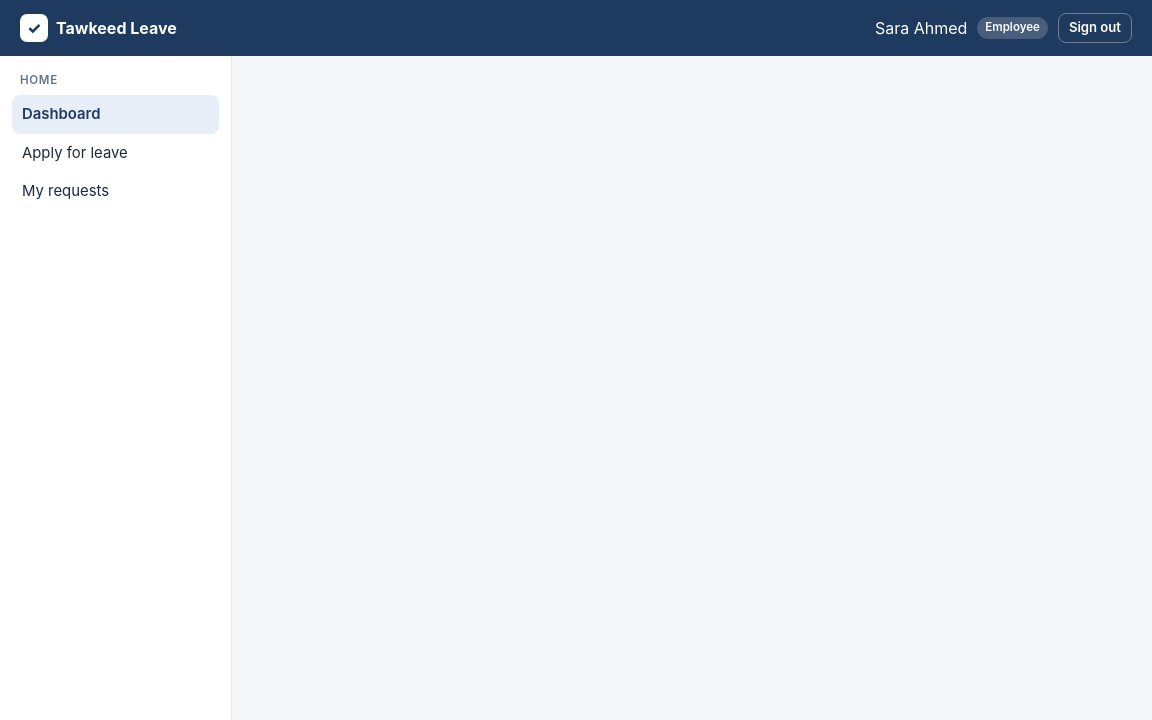
Test: sign out › asks for confirmation; Cancel keeps the session
Click the button "Sign out".
click(1095, 28)  # box [1058,13,1132,43]
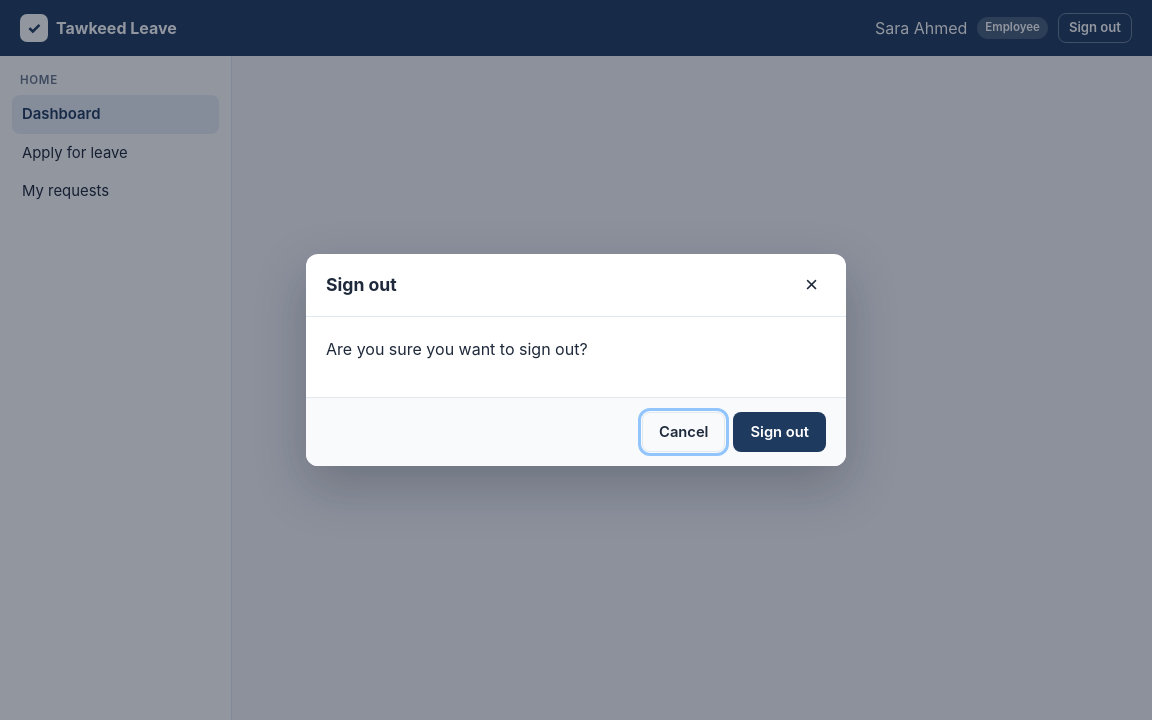
Check: the dialog "Sign out" shows "Are you sure you want to sign out?", box [326,339,588,359]
Click the button "Cancel".
click(684, 432)  # box [642,412,725,452]
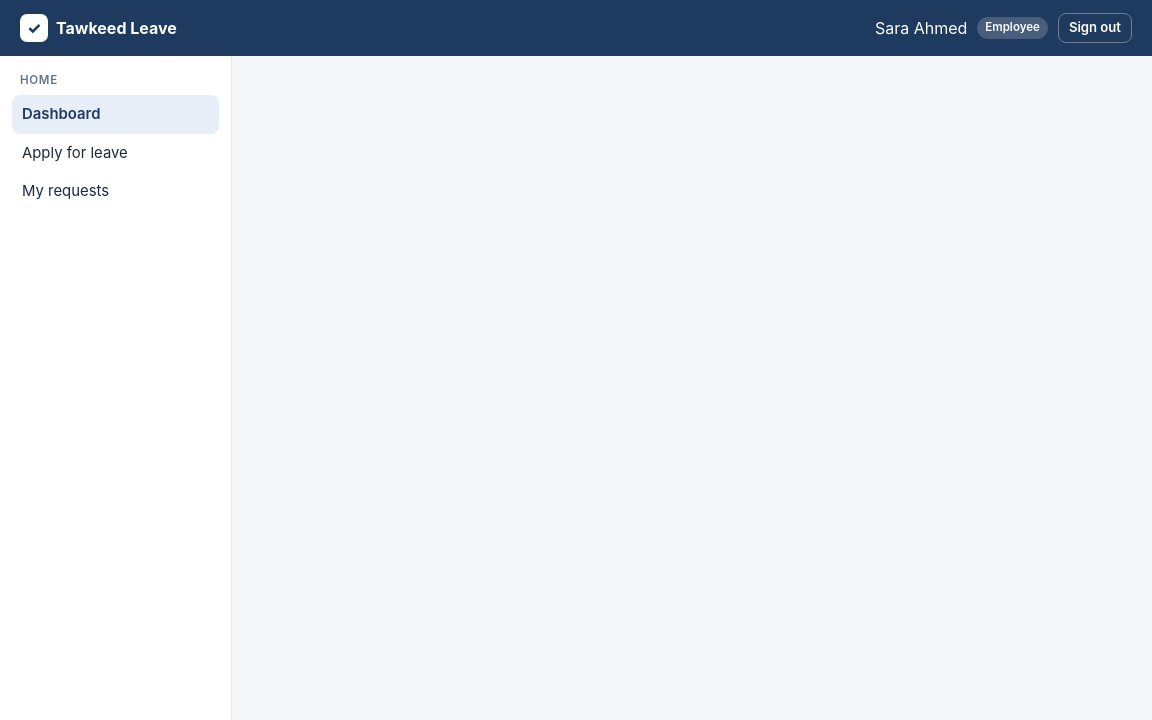
Check: the dialog is gone
